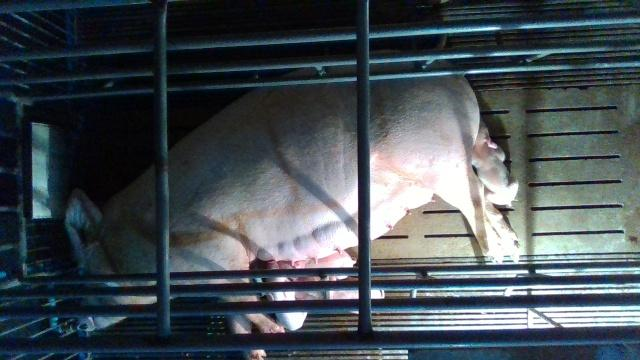piglet: (472, 118, 519, 208), (264, 261, 308, 331), (277, 250, 357, 280)
sow-sleep-lactate: (64, 49, 519, 360)
